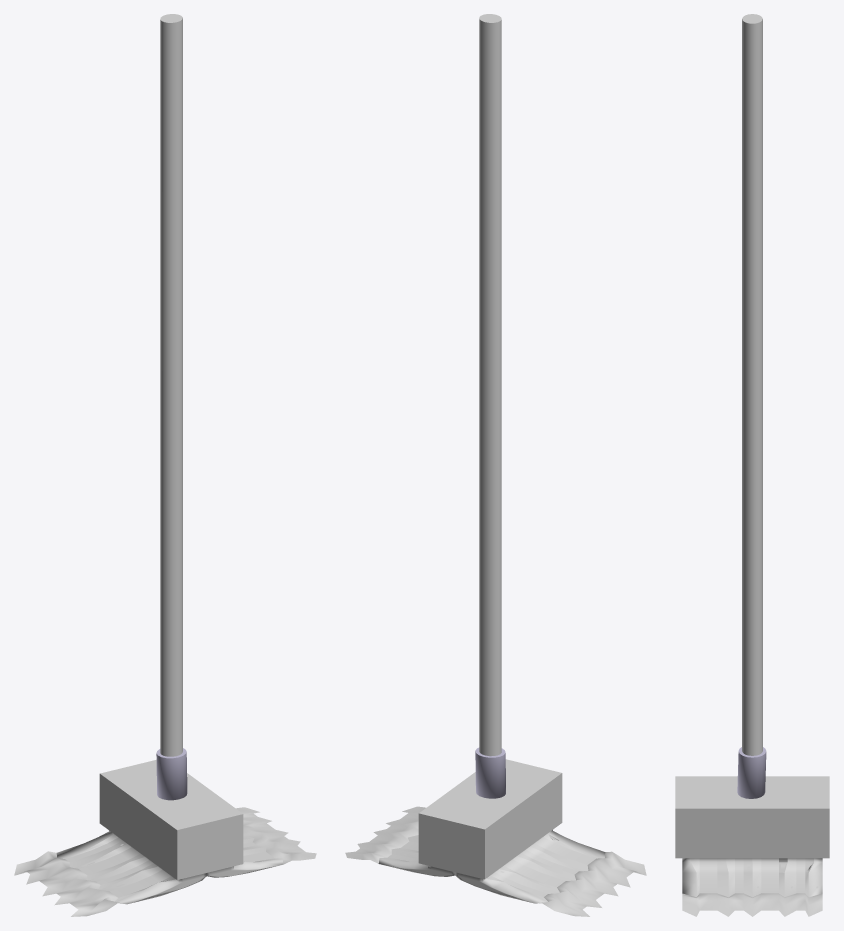
File: Mop.fbx
The picture shows the model from 3 angles, left to right: view 1: azimuth 30°, elevation 25°; view 2: azimuth 150°, elevation 25°; view 3: azimuth 270°, elevation 25°; orthographic projection.
Visible parts, largest first — view 1: Mop; view 2: Mop; view 3: Mop.
Part boxes in pixels (<box>): Mop: <box>14,14,316,916</box>; Mop: <box>345,14,646,916</box>; Mop: <box>675,14,829,916</box>.
Bounding box in the file's own units: 71.63 × 236 × 39.01.
